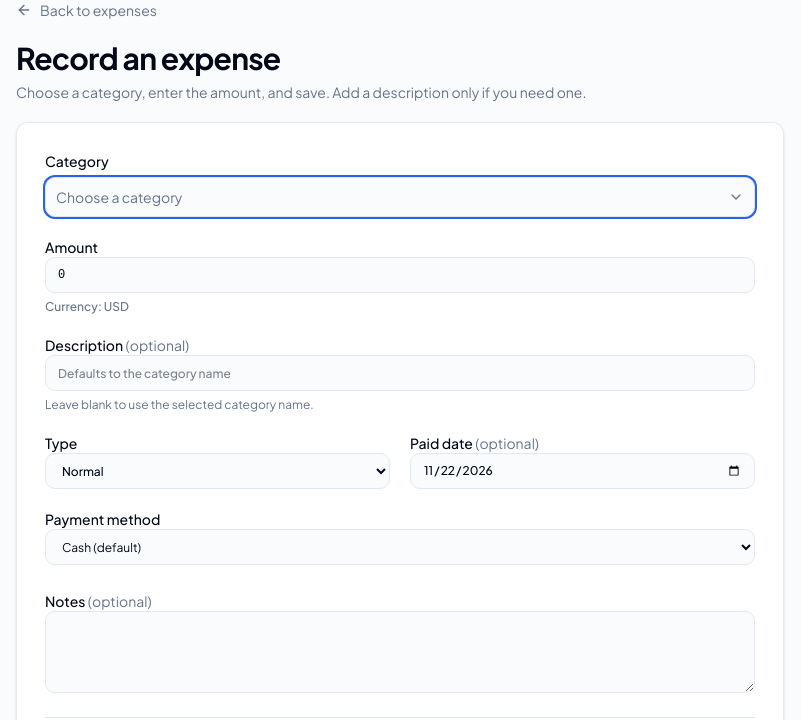
Test case: expense UI › preserves the draft when save and add new fails and allows retrying
Step 1. Click the button "Choose a category" → {"x": 119, "y": 197}, box left=45, top=177, right=755, bottom=217
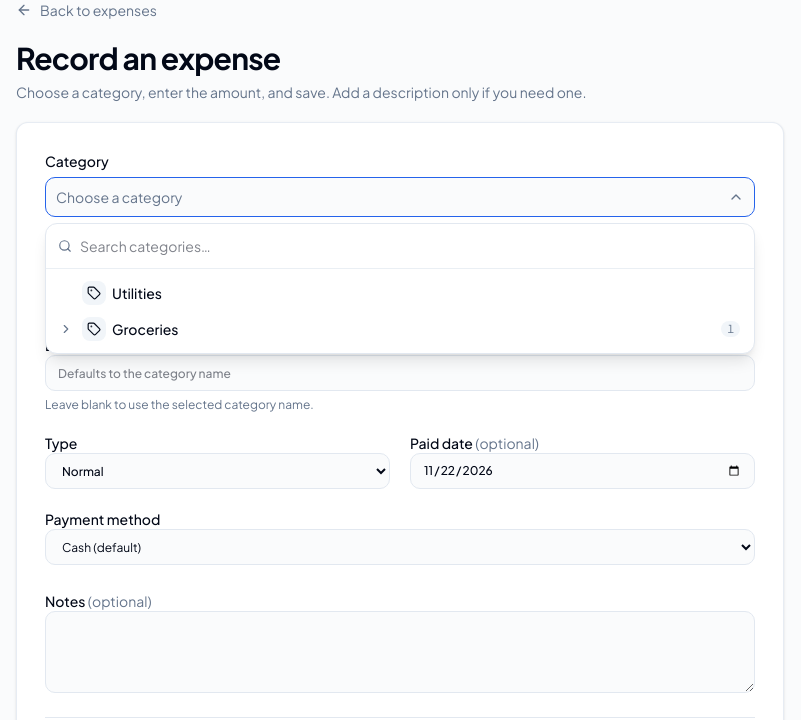
Step 2. Click the list item "Groceries" → {"x": 145, "y": 329}, box left=52, top=311, right=748, bottom=347
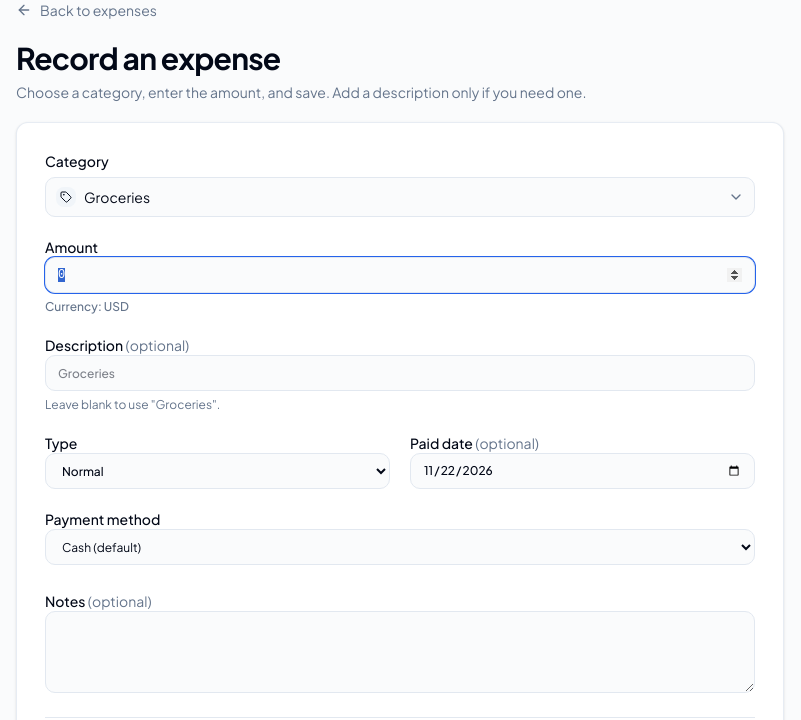
Step 3. Type "25" into the number field labelled "Amount Currency: USD" → {"x": 400, "y": 275}, box left=45, top=257, right=755, bottom=293
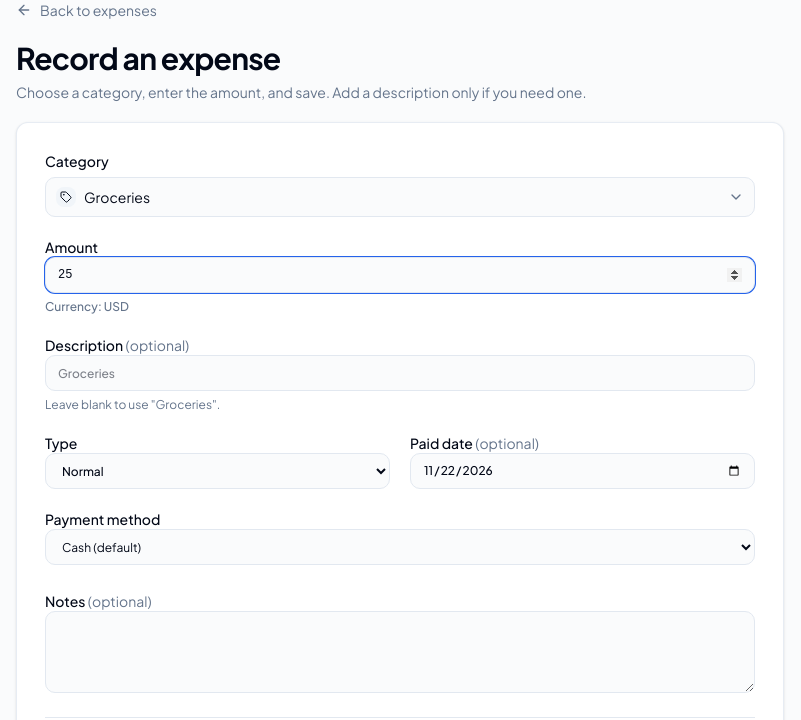
Step 4. Type "Keep this draft" into the field labelled "Description (optional) Leave blank to use \"Groceries\"." → {"x": 400, "y": 373}, box left=45, top=355, right=755, bottom=391
(page scrolled)
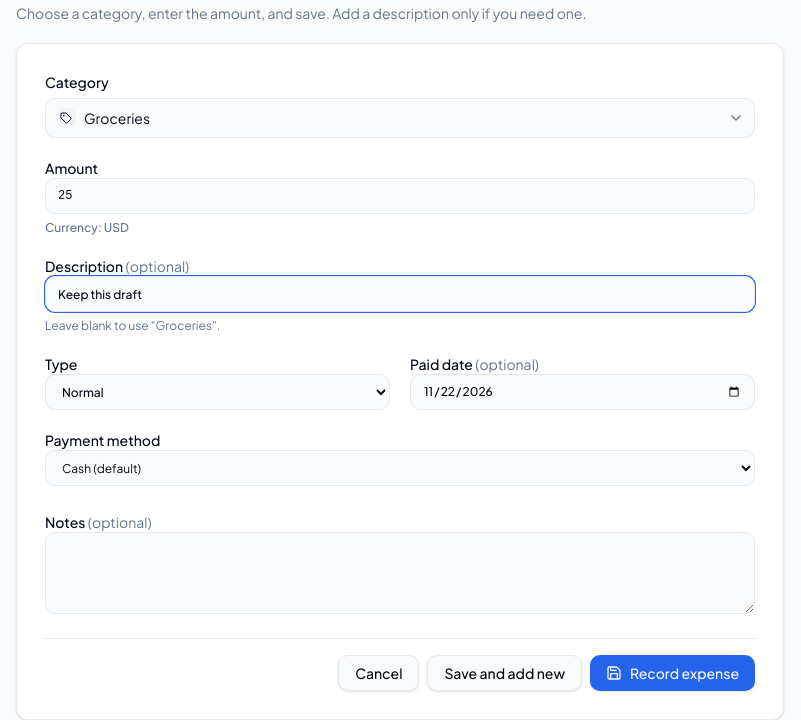
Step 5. Click the button "Save and add new" → {"x": 505, "y": 673}, box left=428, top=655, right=582, bottom=691
(page scrolled)
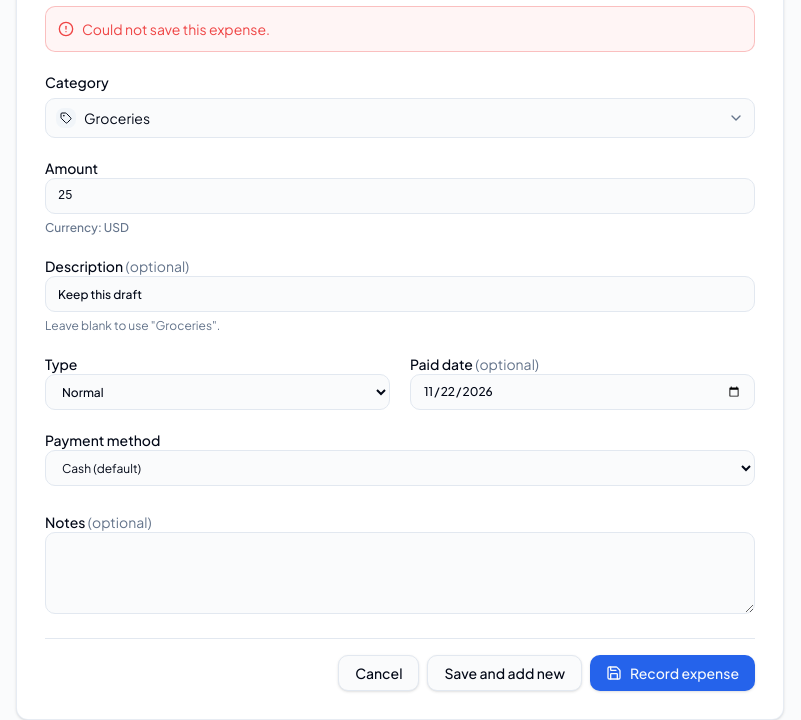
Now the button named "Category" reads "Groceries", box left=45, top=98, right=755, bottom=138
Now the message reads "Could not save this expense.", box left=82, top=20, right=270, bottom=38
Step 6. Click the button "Save and add new" → {"x": 505, "y": 673}, box left=428, top=655, right=582, bottom=691
(page scrolled)
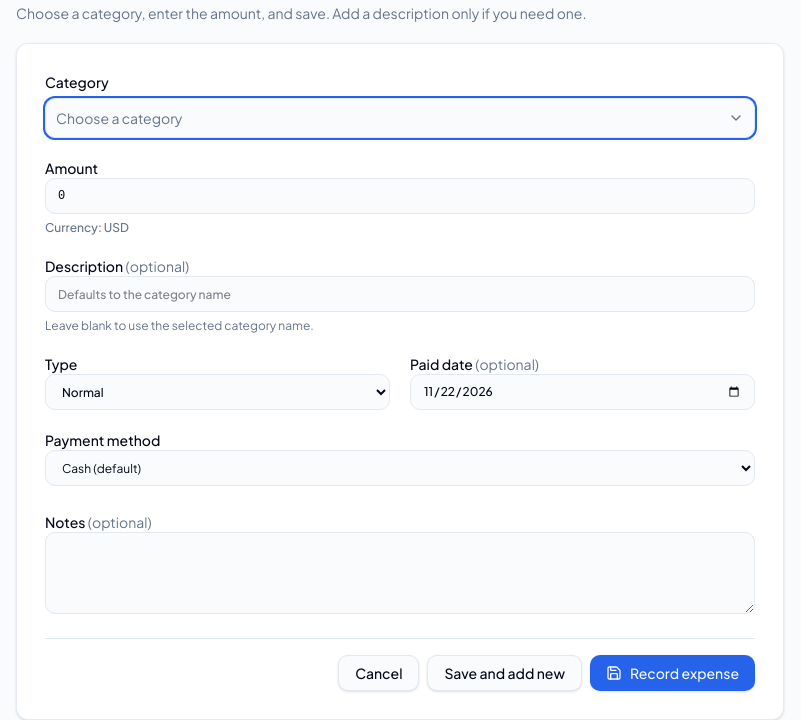
Now the number field labelled "Amount Currency: USD" holds "0", box left=45, top=178, right=755, bottom=214
Now the message "Could not save this expense." is gone
